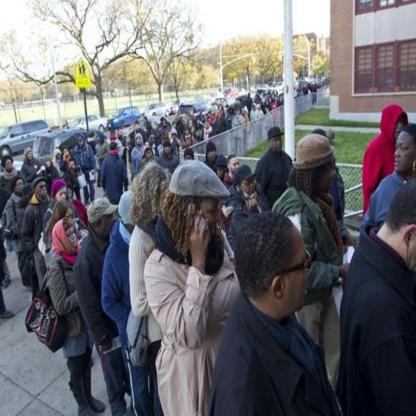face: (283, 236, 309, 311), (197, 196, 219, 245), (395, 133, 414, 173), (320, 161, 336, 193), (391, 118, 407, 145), (65, 221, 77, 250), (102, 210, 114, 238), (243, 178, 256, 197), (38, 182, 48, 199), (65, 209, 74, 226), (231, 159, 240, 176), (274, 137, 284, 152), (57, 189, 67, 204), (17, 181, 25, 194), (218, 167, 226, 180), (210, 148, 217, 162), (6, 160, 14, 172), (186, 155, 193, 166), (165, 144, 172, 155), (146, 151, 152, 160), (138, 137, 144, 146), (64, 149, 70, 158), (78, 138, 84, 147), (28, 152, 33, 161), (257, 104, 263, 111), (185, 128, 190, 136), (150, 136, 155, 143), (173, 134, 178, 141), (190, 121, 195, 128), (135, 123, 140, 130), (207, 123, 211, 130), (48, 161, 52, 168), (202, 116, 206, 122), (220, 105, 223, 112), (113, 132, 116, 138)
